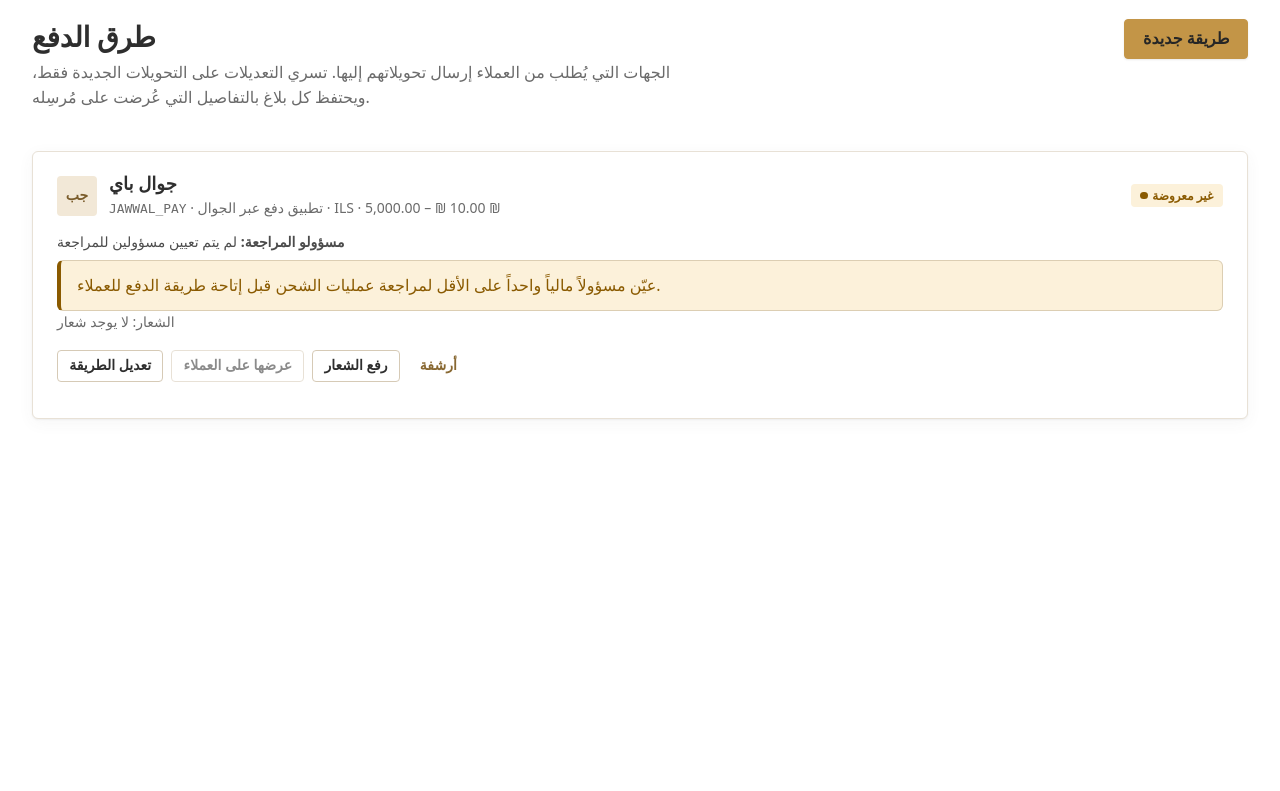
Test: payment method reviewers › speaks Arabic
Expected: the element with test id "method-reviewers" shows "لم يتم تعيين مسؤولين للمراجعة", [57,232,237,251]
Expected: the element with test id "method-reviewers" shows "عيّن مسؤولاً مالياً واحداً على الأقل لمراجعة عمليات الشحن قبل إتاحة طريقة الدفع للعملاء.", [77,274,660,296]
Step 1. Click the button "تعديل الطريقة" → (110, 366), box [57,350,163,382]
(page scrolled)
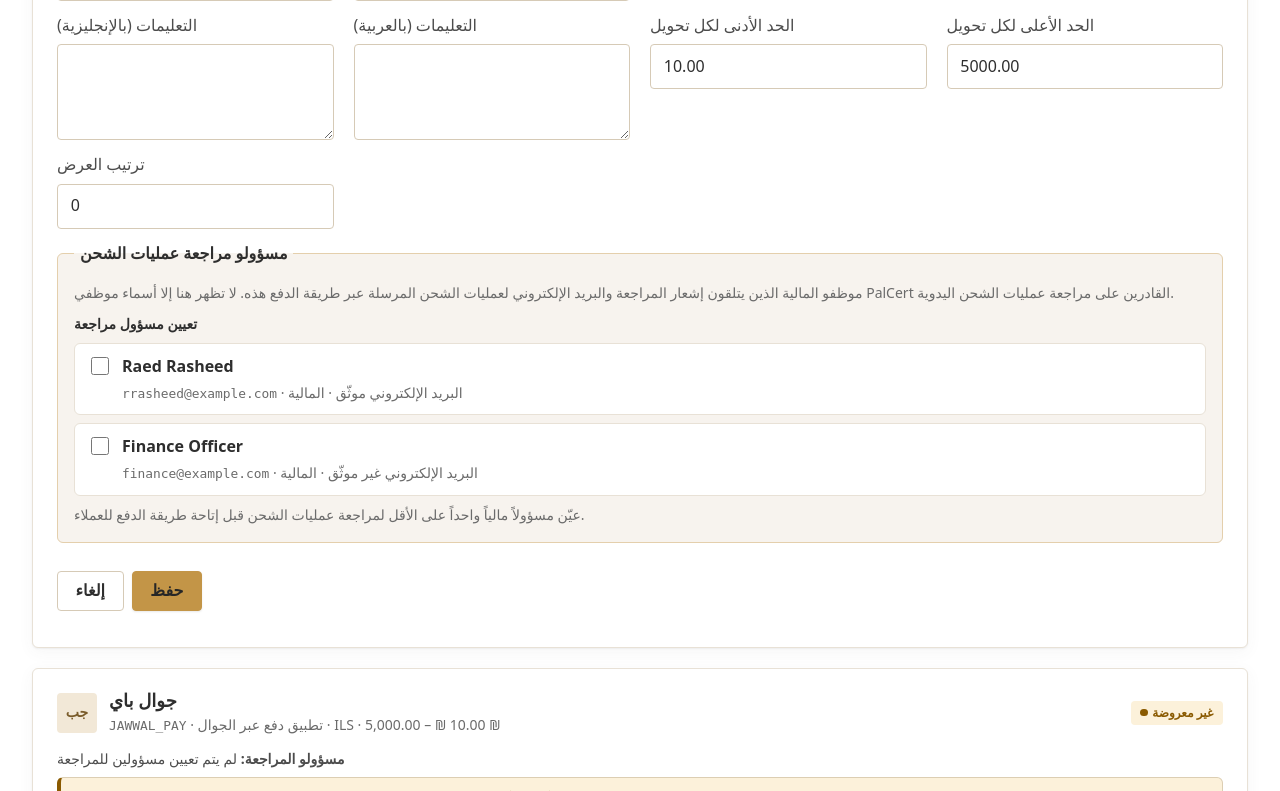
Expected: the element with test id "reviewer-picker" shows "مسؤولو مراجعة عمليات الشحن", [80,242,288,264]
Expected: the element with test id "reviewer-picker" shows "تعيين مسؤول مراجعة", [74,314,197,333]
Expected: the text "Raed Rasheed" is shown, [122,355,234,377]
